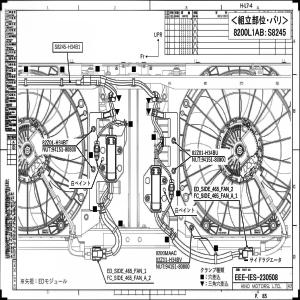PartNumber: (155, 255, 183, 263), (202, 156, 226, 164), (54, 43, 81, 50), (191, 150, 220, 156), (42, 139, 69, 145), (165, 264, 191, 270), (52, 146, 76, 152)
